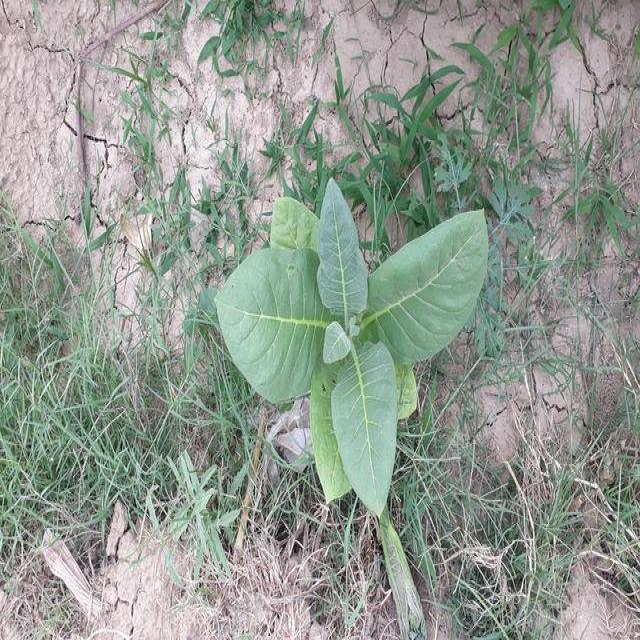crop: (215, 185, 494, 512)
